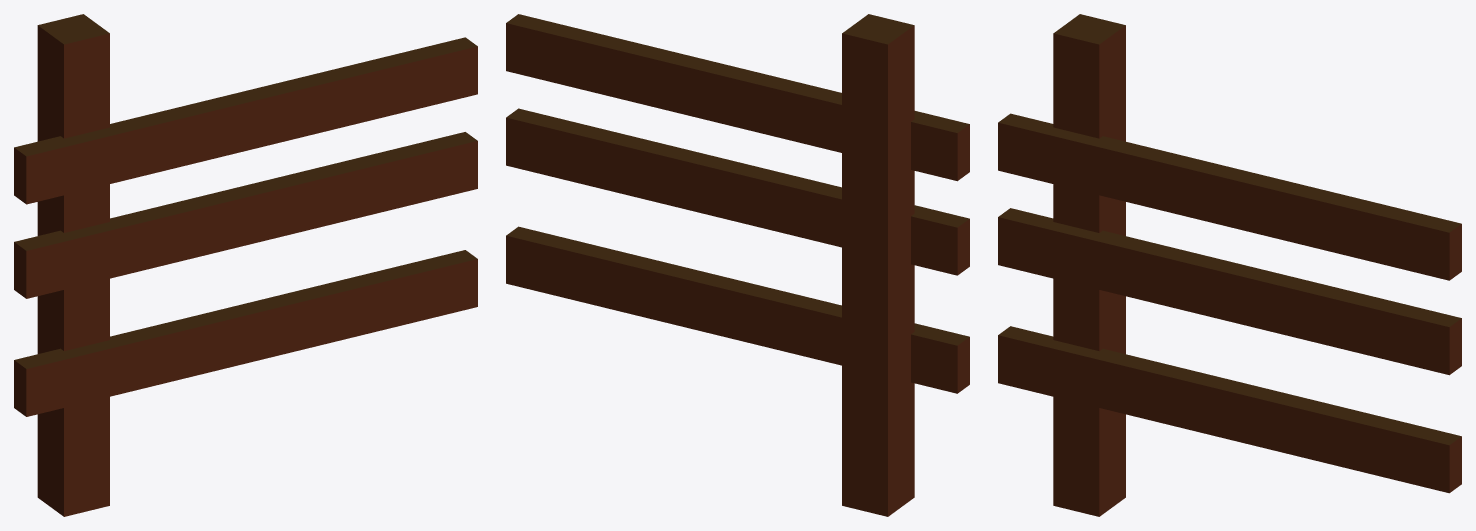
File: fence_straight.fbx
3 renders of one model, left to right at view 1: azimuth 30°, elevation 25°; view 2: azimuth 150°, elevation 25°; view 3: azimuth 330°, elevation 25°, orthographic.
Parts seen in each view (by area): view 1: Fence_straight; view 2: Fence_straight; view 3: Fence_straight.
Boxes of the visible parts, left/top/right/bottom form: Fence_straight: left=14, top=14, right=477, bottom=516; Fence_straight: left=506, top=14, right=969, bottom=516; Fence_straight: left=998, top=14, right=1461, bottom=516.
Bounding box in the file's own units: 200 × 200 × 27.13.
